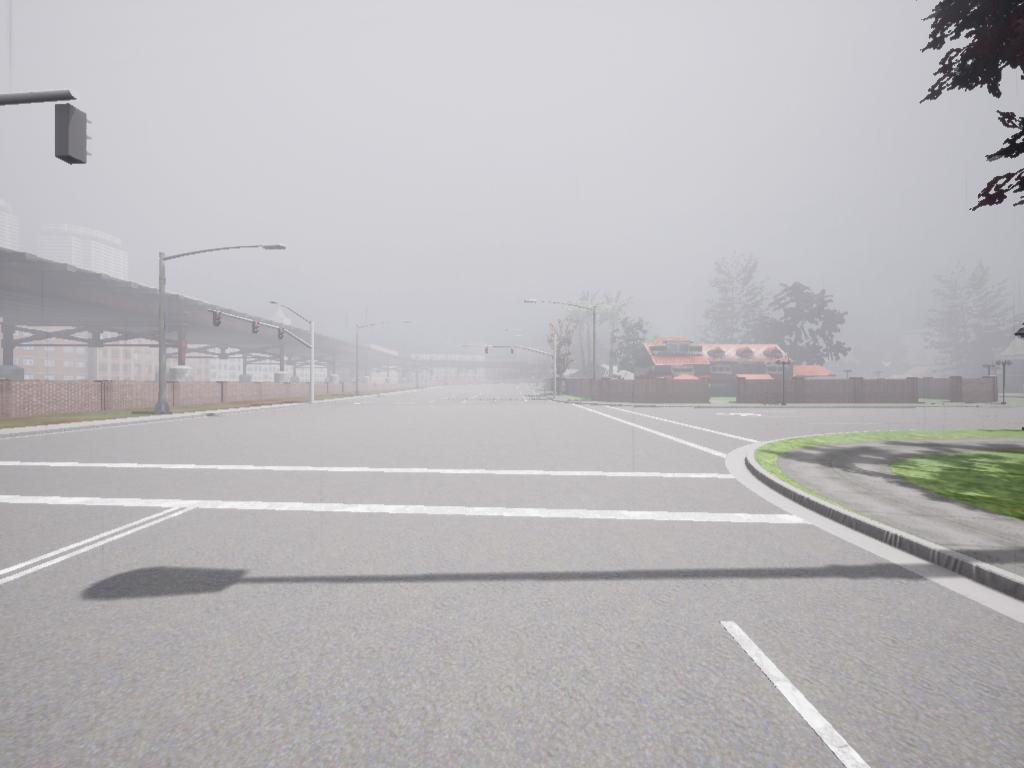traffic_light: (56, 108, 92, 167), (252, 321, 262, 337), (276, 327, 286, 342), (214, 314, 223, 330), (484, 347, 491, 358), (511, 348, 516, 357)
